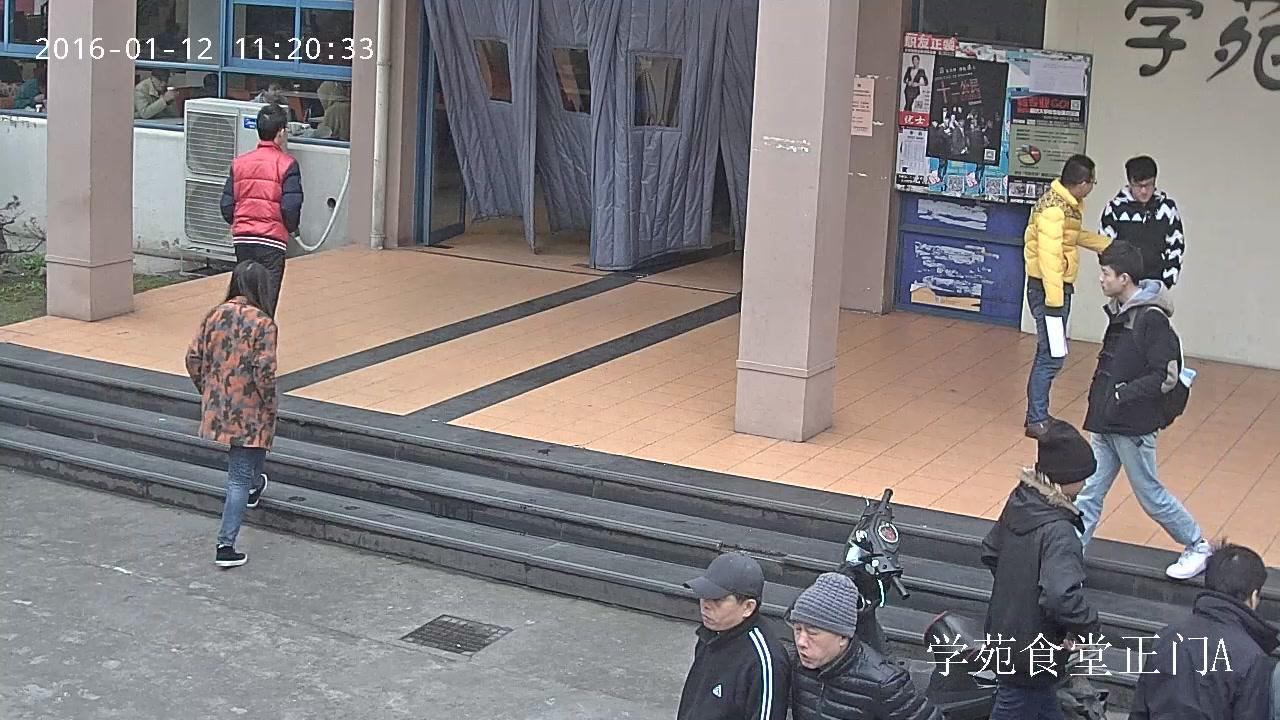person: (1070, 238, 1214, 580), (978, 417, 1104, 720), (186, 260, 279, 567), (1128, 535, 1279, 720), (779, 572, 945, 720), (1023, 154, 1099, 439), (677, 551, 792, 720), (219, 104, 305, 325), (1098, 155, 1188, 305), (133, 67, 180, 120), (313, 79, 351, 141), (13, 69, 48, 113), (903, 55, 930, 111)
